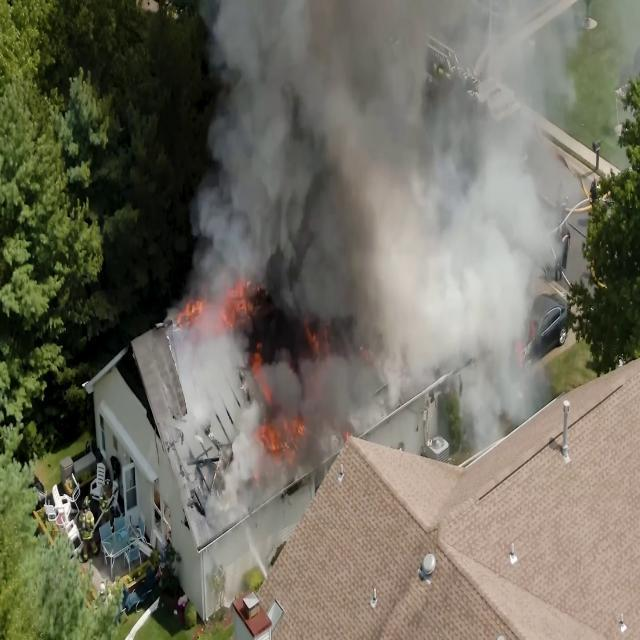Fire: (171, 282, 249, 334), (260, 398, 307, 471)
Smoke: (234, 0, 388, 280), (382, 9, 519, 307)
